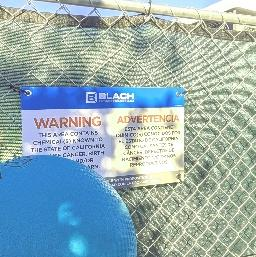algae: (0, 152, 140, 257)
